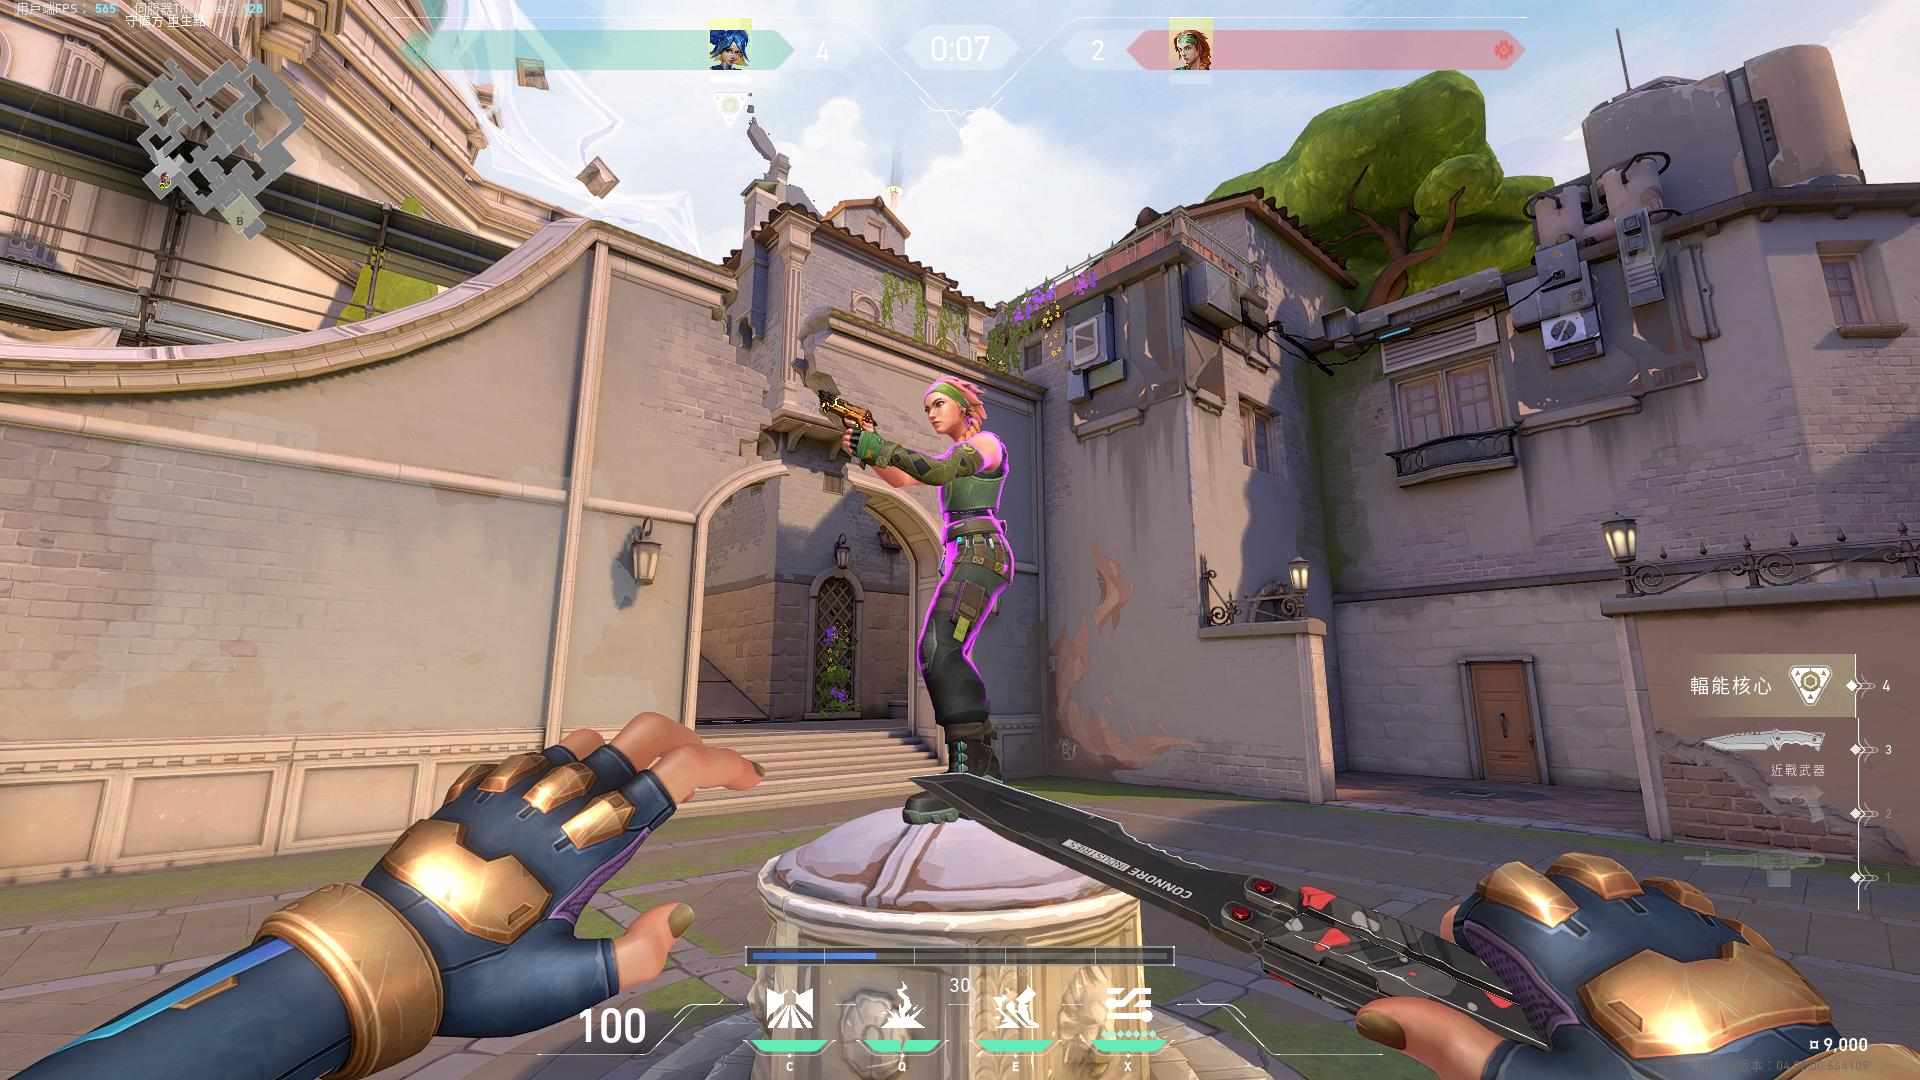enemyBody: (913, 455, 1017, 570)
enemyHead: (911, 378, 973, 438)
